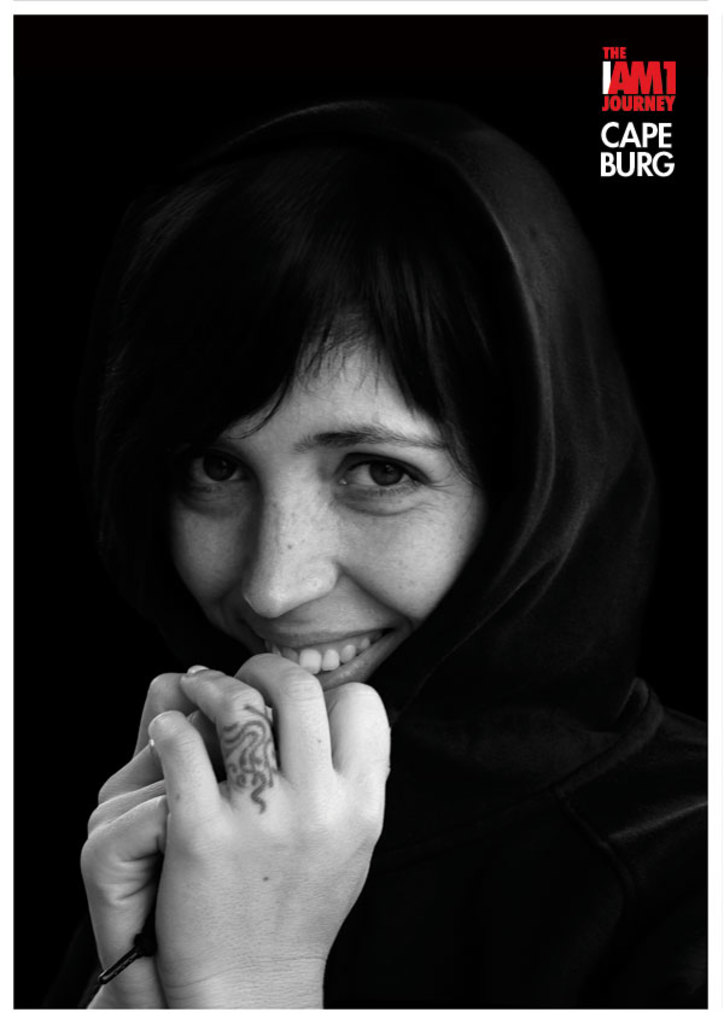Human_hand: (145, 653, 393, 1012), (84, 674, 275, 1014)
